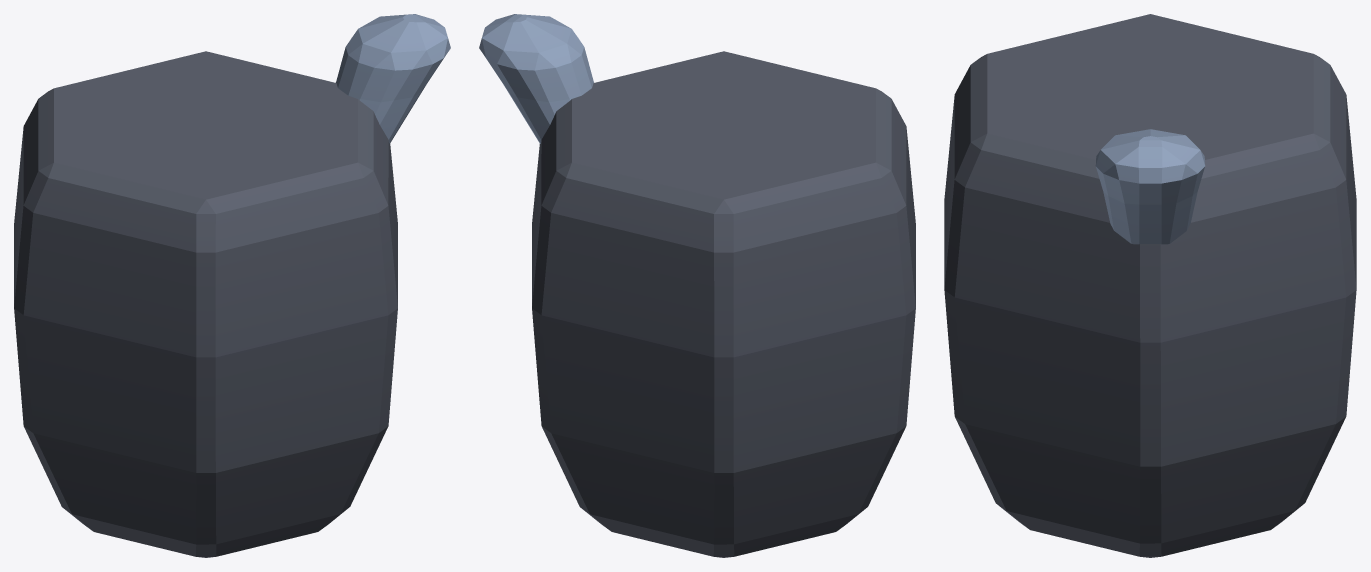
The model's file is mortar_pestle.glb.
The picture shows the model from 3 angles, left to right: view 1: azimuth 30°, elevation 25°; view 2: azimuth 150°, elevation 25°; view 3: azimuth 270°, elevation 25°; orthographic projection. The views are drawn at different scales.
Visible parts, largest first — view 1: mortar_pestle; view 2: mortar_pestle; view 3: mortar_pestle.
Boxes of the visible parts, x1,y1,x2,y2 form: mortar_pestle: (14,14,450,557); mortar_pestle: (479,14,915,557); mortar_pestle: (944,14,1356,557).
Bounding box in the file's own units: 0.2209 × 0.2185 × 0.1732.
Materials: 1 (1 with a texture image).
